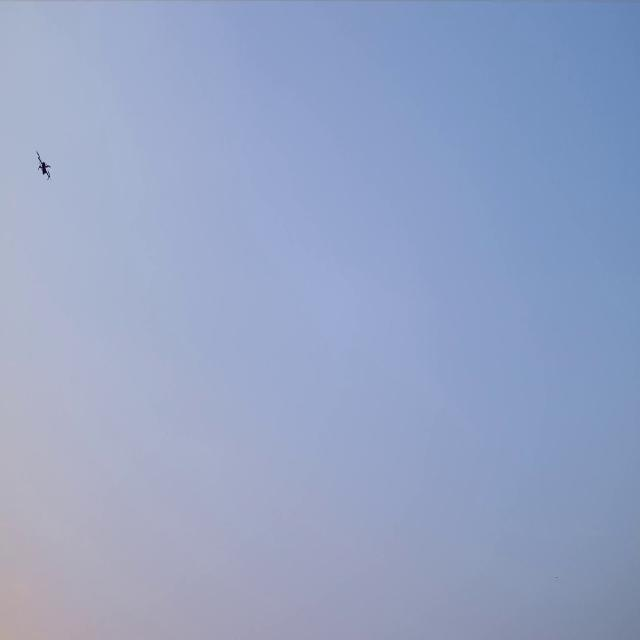UAV: (35, 148, 53, 183)
